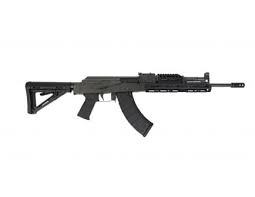gun: (23, 70, 246, 138)
